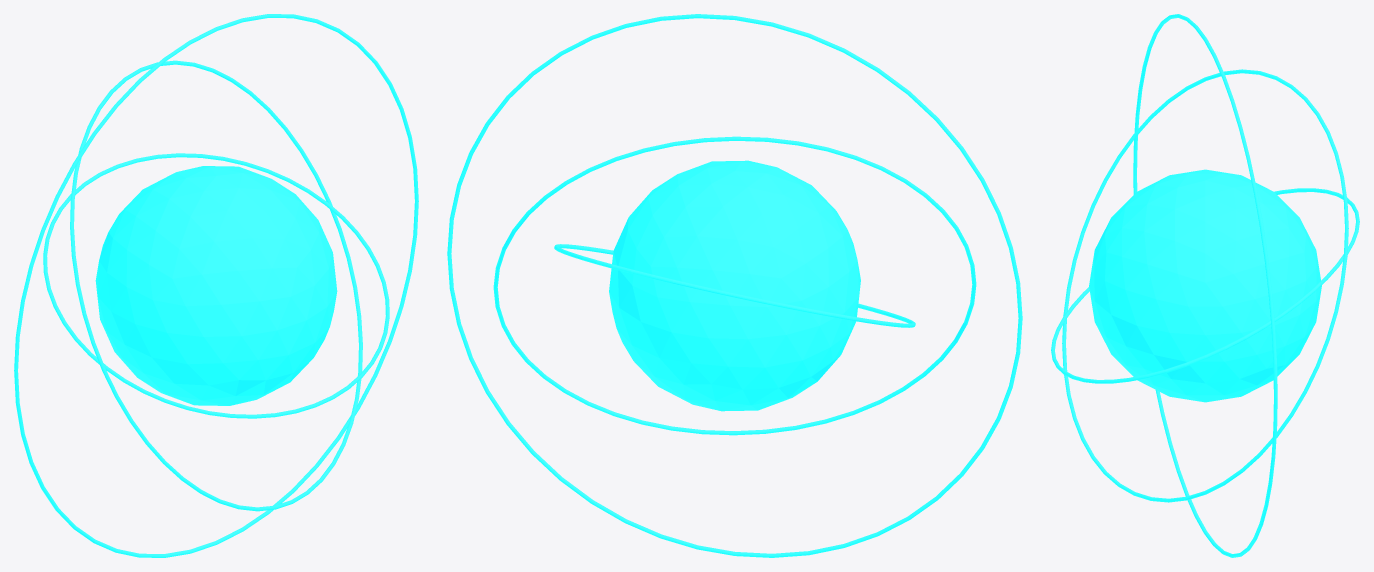
Rendered from neural_core.glb.
3 renders of one model, left to right at view 1: azimuth 30°, elevation 25°; view 2: azimuth 150°, elevation 25°; view 3: azimuth 270°, elevation 25°, orthographic. The views are drawn at different scales.
Parts seen in each view (by area): view 1: AI_Neural_Core, Cyber_Ring_2, Cyber_Ring_1, Cyber_Ring_0; view 2: AI_Neural_Core, Cyber_Ring_2, Cyber_Ring_1, Cyber_Ring_0; view 3: AI_Neural_Core, Cyber_Ring_1, Cyber_Ring_2, Cyber_Ring_0.
Part boxes in pixels (left/top/right/bottom): AI_Neural_Core: left=95, top=166, right=337, bottom=405; Cyber_Ring_2: left=14, top=14, right=418, bottom=557; Cyber_Ring_1: left=70, top=60, right=362, bottom=511; Cyber_Ring_0: left=43, top=153, right=389, bottom=418; AI_Neural_Core: left=609, top=160, right=860, bottom=411; Cyber_Ring_2: left=447, top=14, right=1022, bottom=557; Cyber_Ring_1: left=493, top=136, right=976, bottom=435; Cyber_Ring_0: left=554, top=244, right=915, bottom=327; AI_Neural_Core: left=1089, top=169, right=1321, bottom=402; Cyber_Ring_1: left=1062, top=69, right=1348, bottom=502; Cyber_Ring_2: left=1133, top=14, right=1277, bottom=557; Cyber_Ring_0: left=1051, top=188, right=1359, bottom=383.
Bounding box in the file's own units: 8.17 × 8.46 × 4.77.
